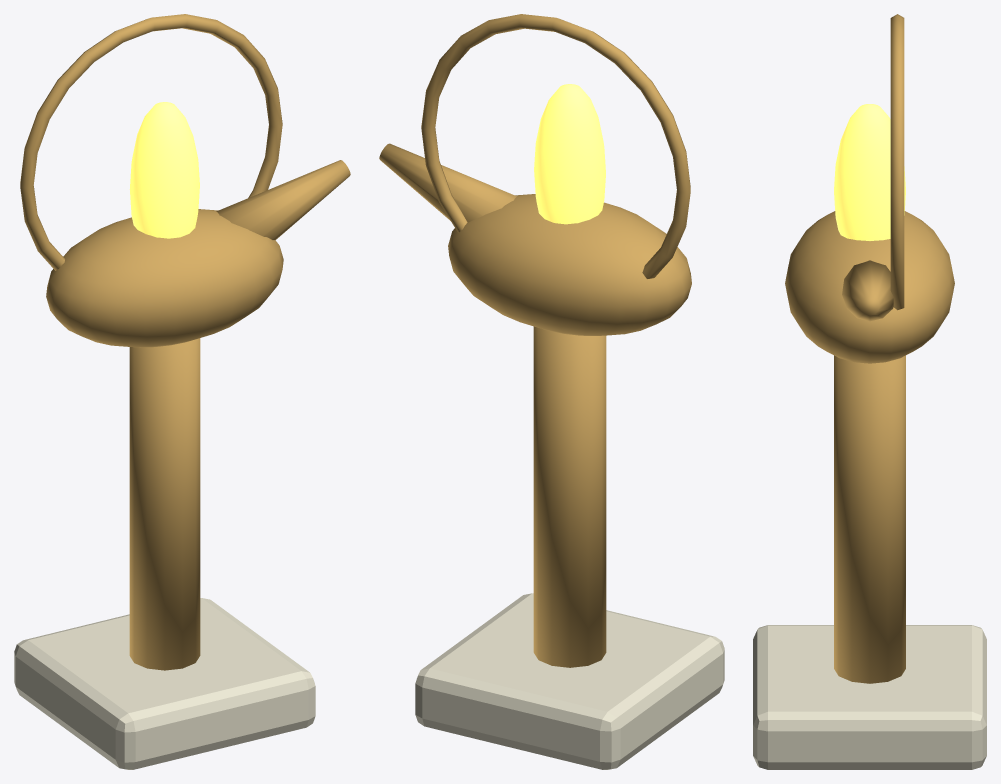
Rendered from lantern.glb.
The picture shows the model from 3 angles, left to right: view 1: azimuth 30°, elevation 25°; view 2: azimuth 150°, elevation 25°; view 3: azimuth 270°, elevation 25°; orthographic projection. The views are drawn at different scales.
Parts seen in each view (by area): view 1: lantern_Antique bronze, lantern_Carved limestone, lantern_Warm lantern light; view 2: lantern_Antique bronze, lantern_Carved limestone, lantern_Warm lantern light; view 3: lantern_Antique bronze, lantern_Carved limestone, lantern_Warm lantern light.
Part boxes in pixels (<box>): lantern_Antique bronze: <box>20,14,350,670</box>; lantern_Carved limestone: <box>14,598,315,769</box>; lantern_Warm lantern light: <box>129,102,199,238</box>; lantern_Antique bronze: <box>379,14,691,667</box>; lantern_Carved limestone: <box>415,593,724,769</box>; lantern_Warm lantern light: <box>534,84,605,224</box>; lantern_Antique bronze: <box>785,14,954,683</box>; lantern_Carved limestone: <box>753,625,986,769</box>; lantern_Warm lantern light: <box>834,104,905,240</box>.
Bounding box in the file's own units: 1.74 × 3.63 × 1.1.
